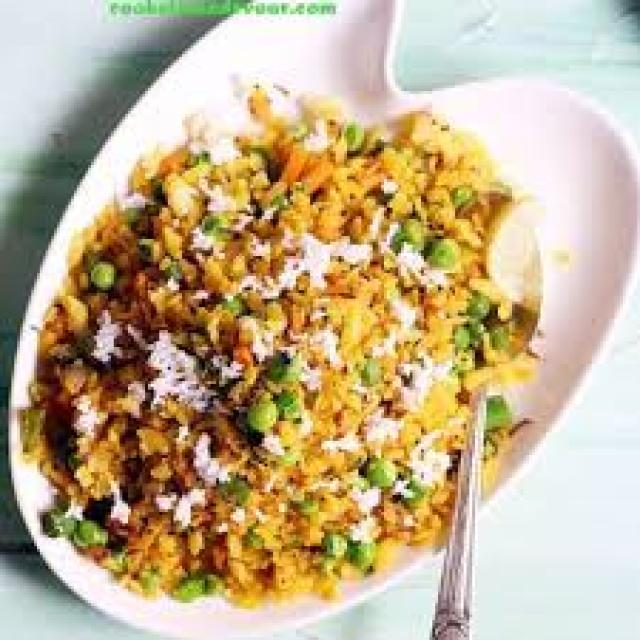POHA: (26, 110, 522, 601)
